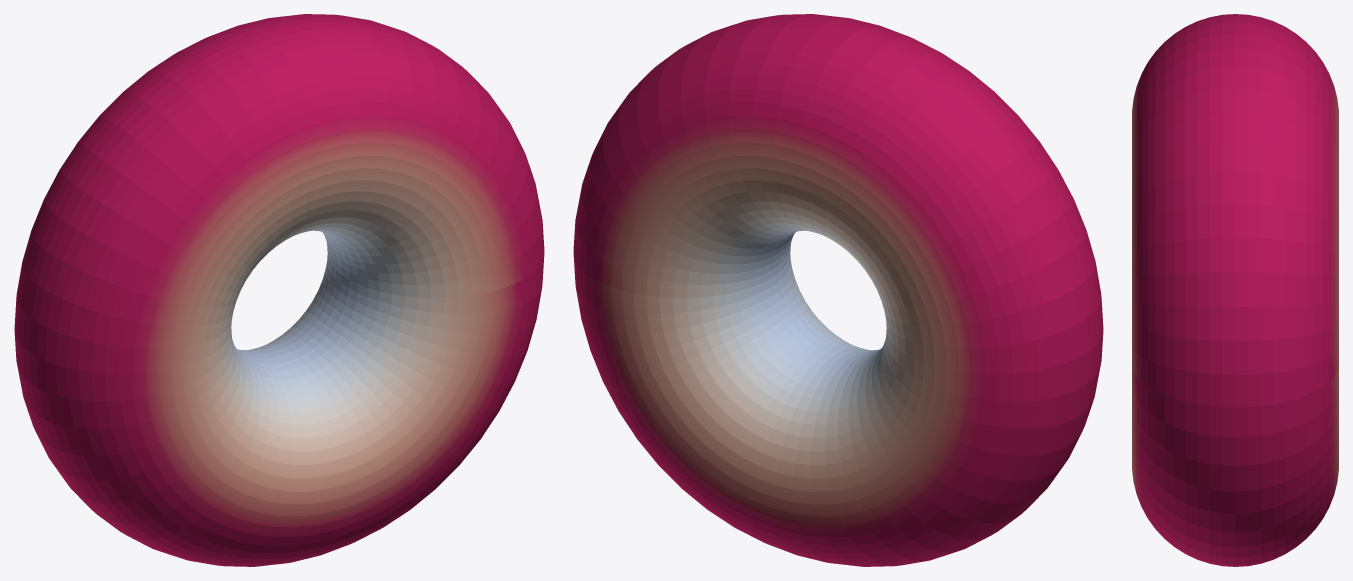
The picture shows the model from 3 angles, left to right: view 1: azimuth 30°, elevation 25°; view 2: azimuth 150°, elevation 25°; view 3: azimuth 270°, elevation 25°; orthographic projection. The views are drawn at different scales.
Parts seen in each view (by area): view 1: world; view 2: world; view 3: world.
Boxes of the visible parts, x1,y1,x2,y2 form: world: (14, 14, 544, 566); world: (573, 14, 1103, 566); world: (1132, 14, 1338, 566).
Size of the model in its own units: 26.67 by 26.61 by 9.98.
